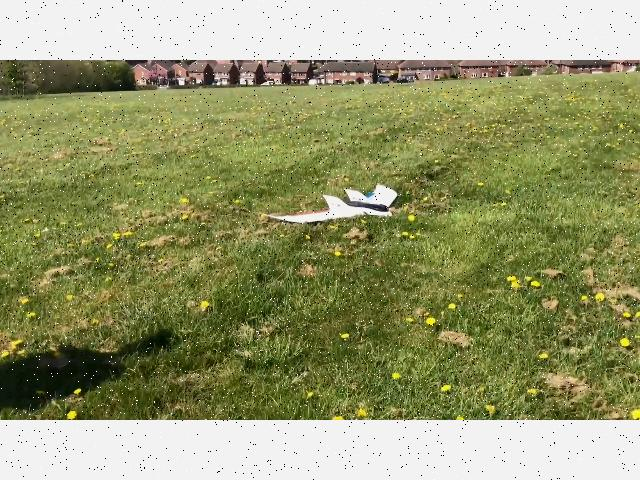Anti-Drone: (267, 170, 409, 227)
